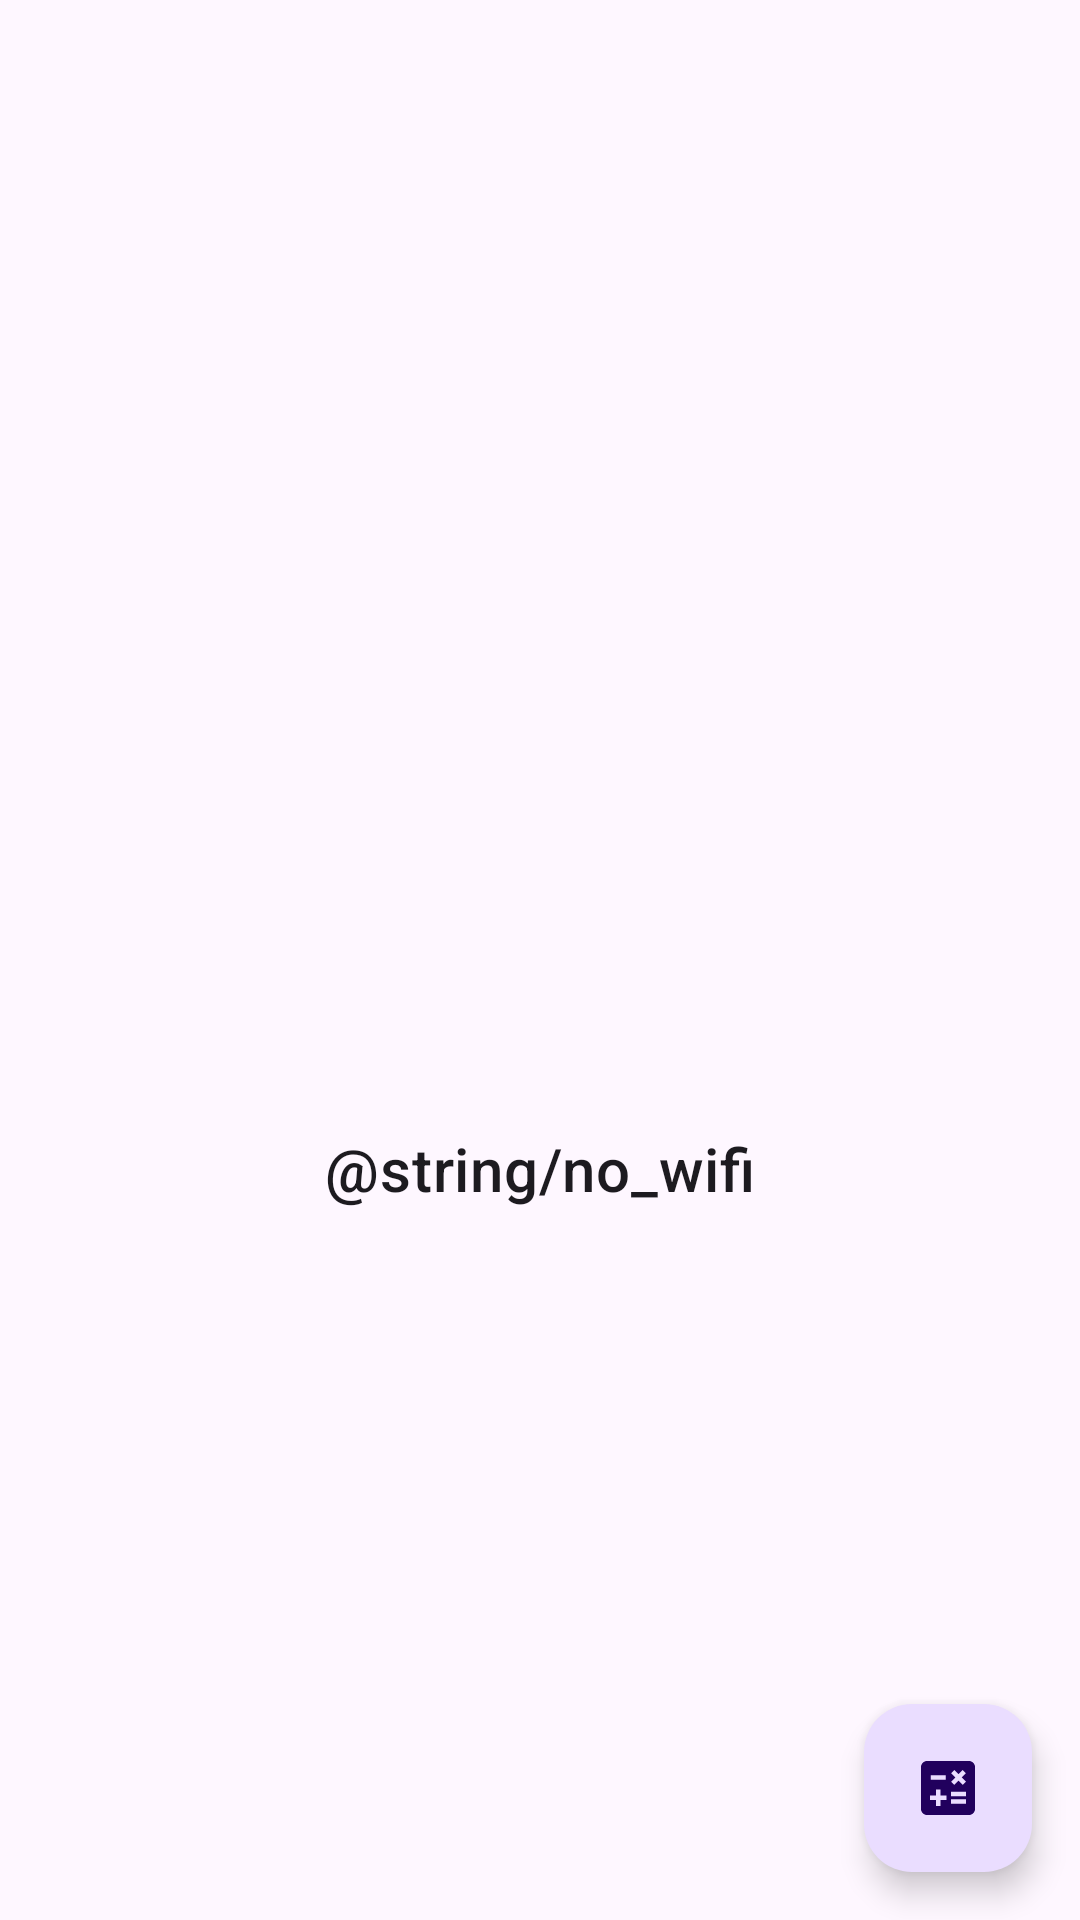

Where icons sit on this 1080x1920 app screen, as (x1, y1, x2, y2):
calculate: (864, 1704, 1032, 1872)
